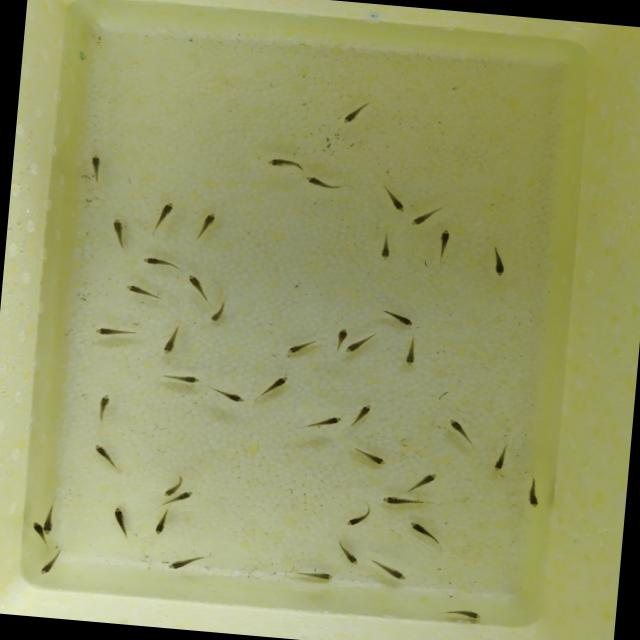fingerling: (83, 319, 143, 343), (116, 280, 171, 306), (143, 200, 181, 237), (338, 95, 372, 132), (158, 551, 208, 576), (187, 209, 223, 243), (441, 417, 481, 447), (402, 518, 446, 545), (368, 556, 411, 582), (483, 242, 512, 280), (341, 498, 375, 530), (375, 183, 410, 214), (106, 505, 136, 541), (256, 154, 310, 174), (348, 443, 389, 469), (376, 490, 429, 510), (345, 328, 380, 358), (104, 216, 134, 251), (158, 321, 184, 361), (182, 272, 214, 304), (328, 539, 364, 567), (284, 332, 322, 358), (258, 370, 292, 399), (519, 474, 546, 510), (372, 228, 399, 264), (376, 308, 422, 329), (82, 150, 108, 187), (90, 441, 122, 471), (408, 468, 444, 494), (138, 252, 180, 274), (440, 604, 486, 624), (431, 226, 454, 265), (36, 548, 64, 580), (292, 566, 339, 585), (303, 175, 347, 195), (206, 384, 246, 405), (348, 400, 378, 428), (408, 202, 438, 230), (159, 371, 208, 387), (401, 334, 424, 368), (151, 505, 172, 540), (95, 391, 117, 424), (306, 412, 346, 430), (208, 297, 230, 326), (42, 503, 60, 538), (492, 442, 510, 474), (160, 472, 180, 497), (24, 520, 44, 544), (332, 324, 348, 354), (178, 489, 198, 504)
